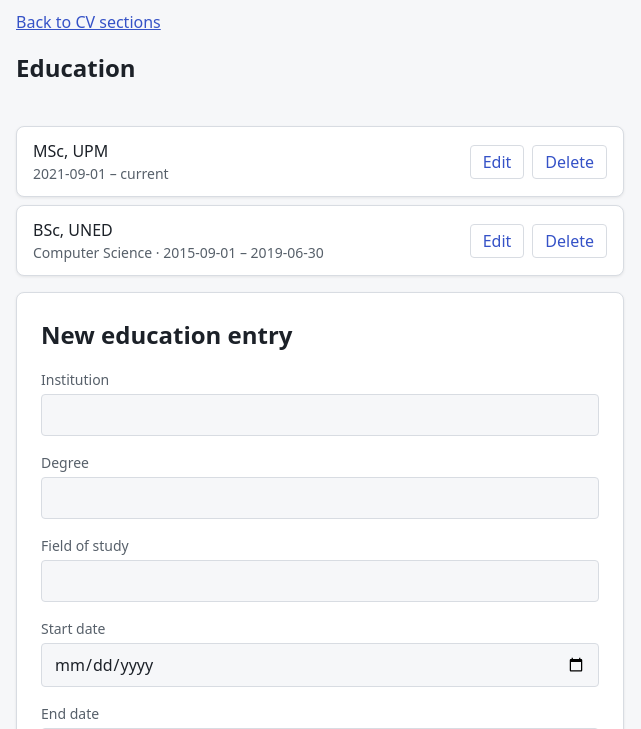
it: EducationsPage › a DELETE answered 404 shows an error and leaves no stale row
What coordinates should you click on to do the following:
click the button with aria-label "Delete MSc, UPM"
I would click on:
 (570, 162)
Its box is x1=532 y1=144 x2=607 y2=178.
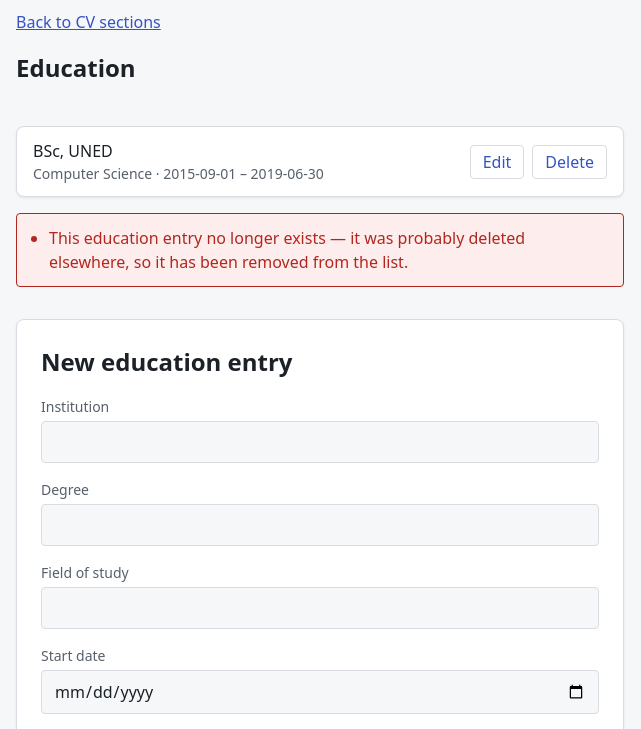
Expected: the message shows "This education entry no longer exists", x1=49 y1=227 x2=525 y2=273
Expected: the text "MSc, UPM" is gone
